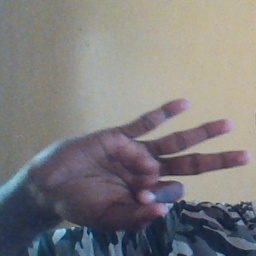K: (28, 98, 250, 235)
